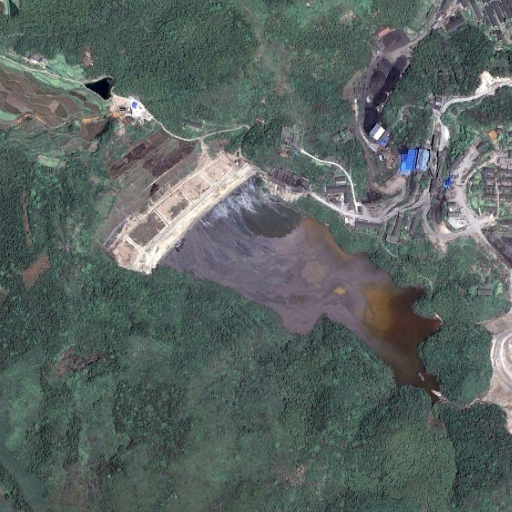tp: (103, 129, 448, 406)
